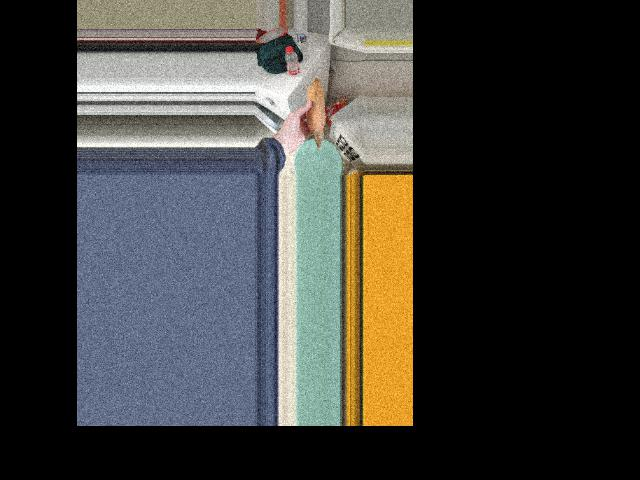sweet_potato: (303, 86, 324, 143)
